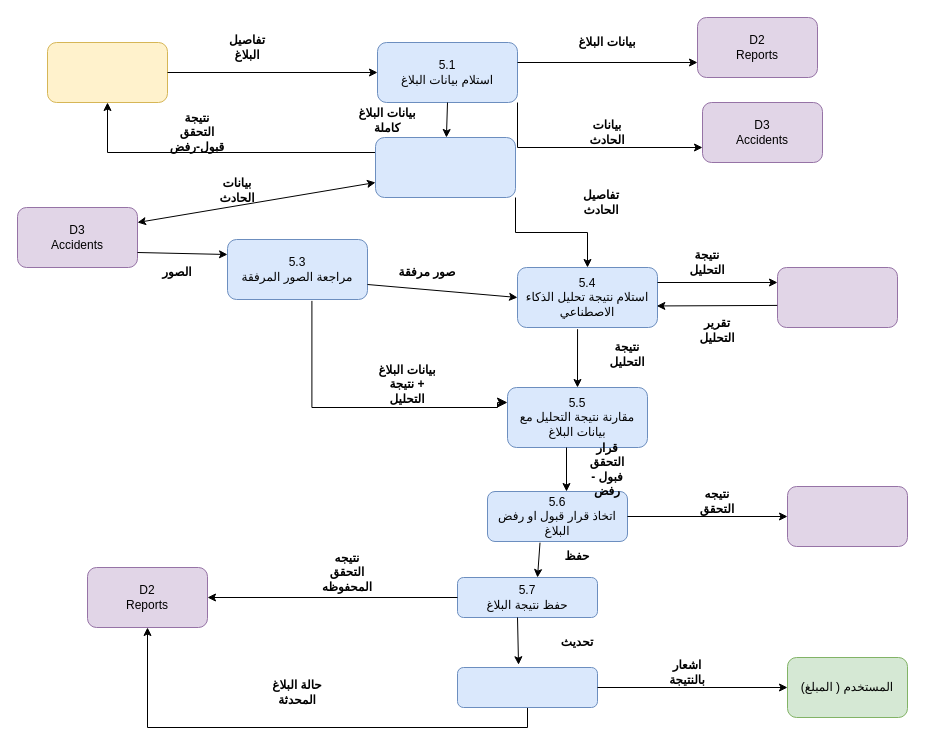
Image size: 925x753. Some labels were removed from this diagram. Here are the shapes that lost their labels. From the top down, the centre of each, then its label:
(107,72): المسؤول
(445,167): 5.2 مراجعة بيانات الحادث
(837,297): D4 AI_Results
(847,516): D5 Verification
(527,687): 5.8 تحديث حالة البلاغ
